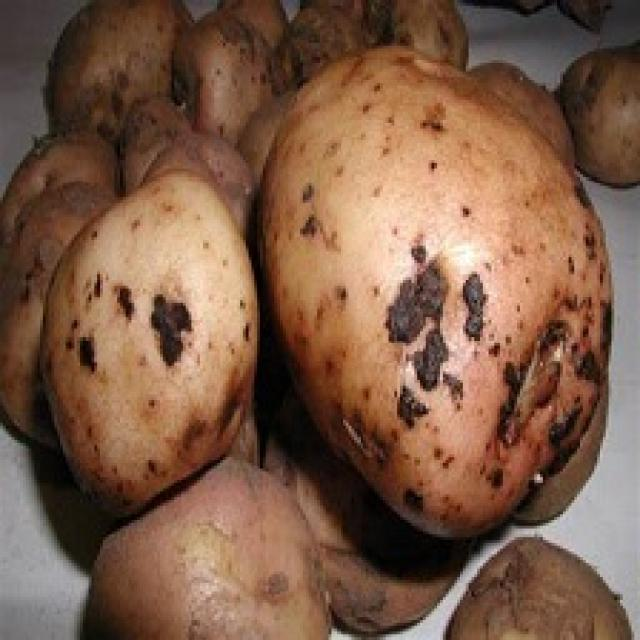black_scurf: (256, 42, 622, 550), (34, 174, 273, 520)
